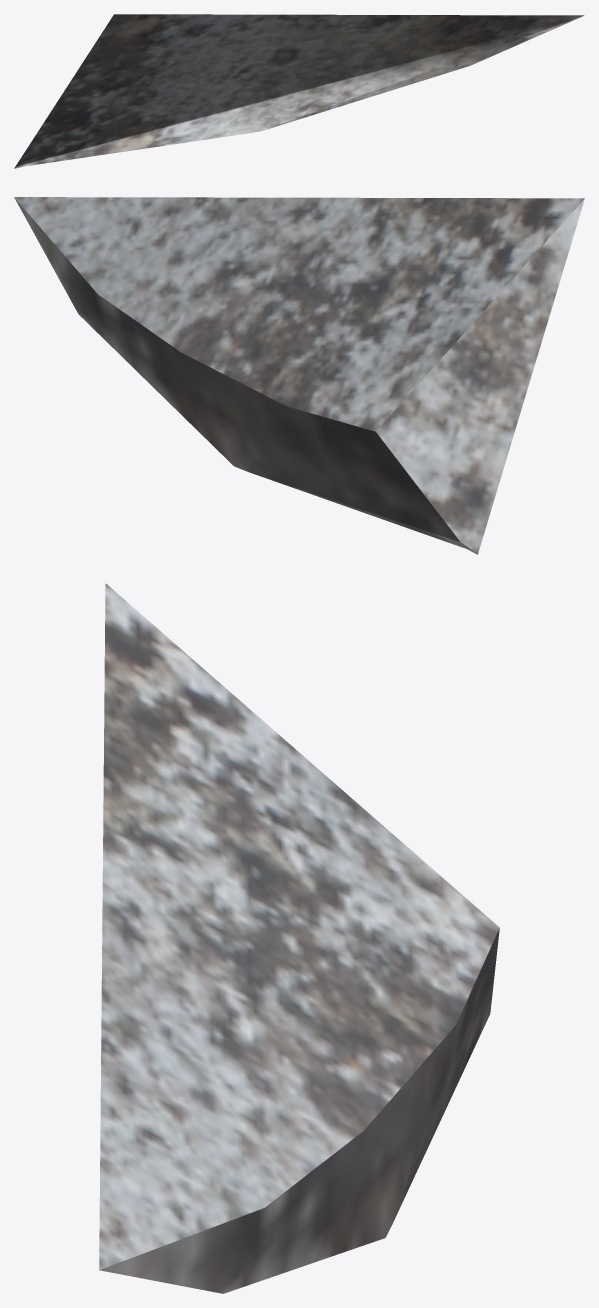
The model's file is Asteroid_Large_001_02_008_03_002.fbx.
3 views of the same model, one above another, from view 1: azimuth 30°, elevation 25°; view 2: azimuth 150°, elevation 25°; view 3: azimuth 270°, elevation 25° (orthographic). The views are drawn at different scales.
Visible parts, largest first — view 1: Asteroid_Large_001_02_008_03_002; view 2: Asteroid_Large_001_02_008_03_002; view 3: Asteroid_Large_001_02_008_03_002.
Boxes of the visible parts, x1,y1,x2,y2 form: Asteroid_Large_001_02_008_03_002: (14, 14, 584, 168); Asteroid_Large_001_02_008_03_002: (14, 197, 584, 554); Asteroid_Large_001_02_008_03_002: (99, 583, 499, 1293).
Size of the model in its own units: 7.26 by 3.24 by 2.65.
